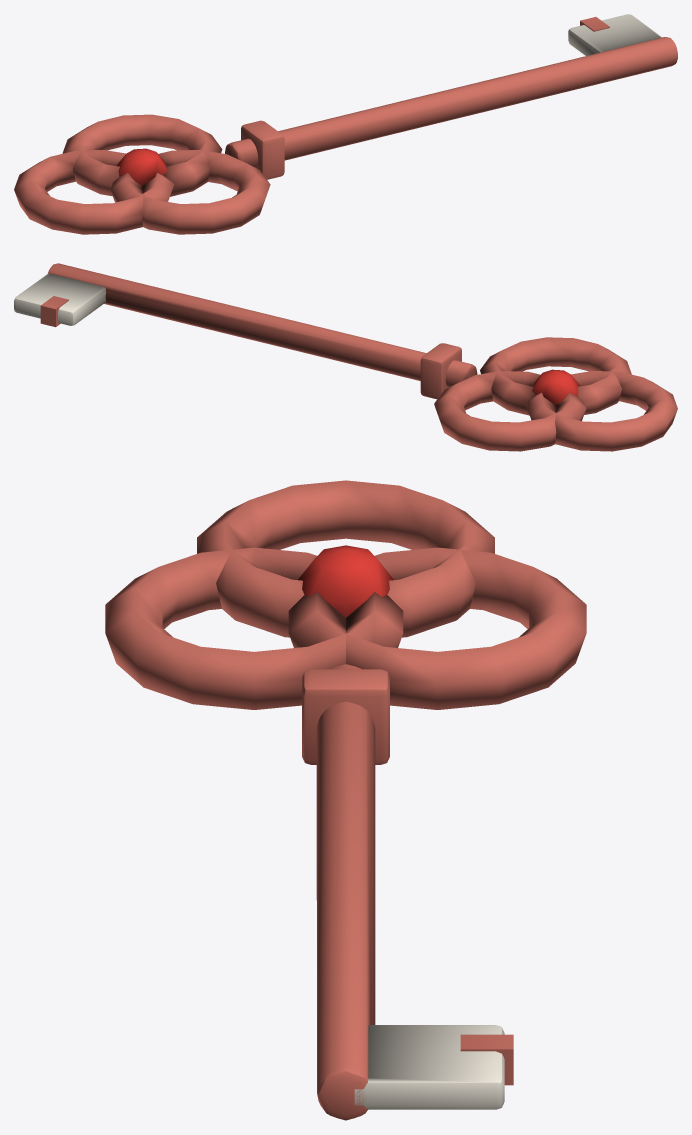
Rendered from nd_key_2.glb.
3 views of the same model, one above another, from view 1: azimuth 30°, elevation 25°; view 2: azimuth 150°, elevation 25°; view 3: azimuth 270°, elevation 25° (orthographic). The views are drawn at different scales.
Visible parts, largest first — view 1: PART; view 2: PART; view 3: PART.
Part boxes in pixels (x1,y1,x2,y2): PART: (14, 14, 677, 234); PART: (14, 263, 677, 451); PART: (105, 480, 586, 1120).
Bounding box in the file's own units: 0.1613 × 0.012 × 0.0546.
